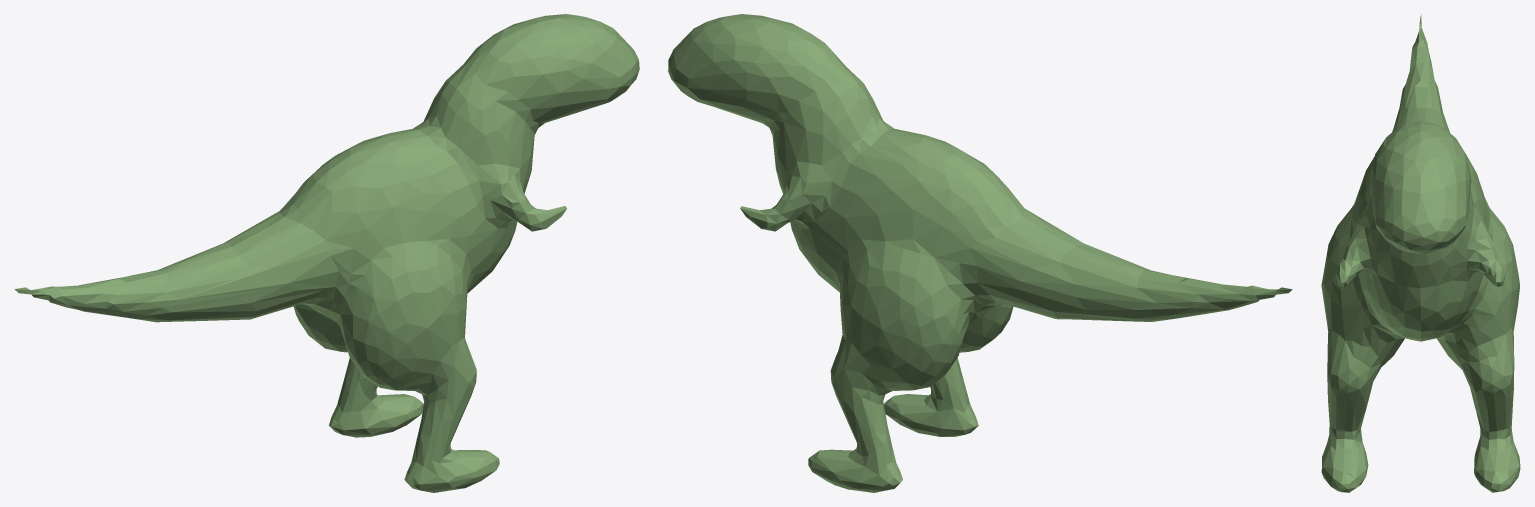
File: NEW_RECOVERY_010_LOD1.glb
3 views of the same model, side by side, from view 1: azimuth 30°, elevation 25°; view 2: azimuth 150°, elevation 25°; view 3: azimuth 270°, elevation 25° (orthographic).
Visible parts, largest first — view 1: Generalized dinosaur solid; view 2: Generalized dinosaur solid; view 3: Generalized dinosaur solid.
Part boxes in pixels (x1,y1,x2,y2): Generalized dinosaur solid: (14,14,639,492); Generalized dinosaur solid: (668,14,1292,492); Generalized dinosaur solid: (1321,14,1520,492).
Size of the model in its own units: 4.41 by 2.76 by 1.21.
